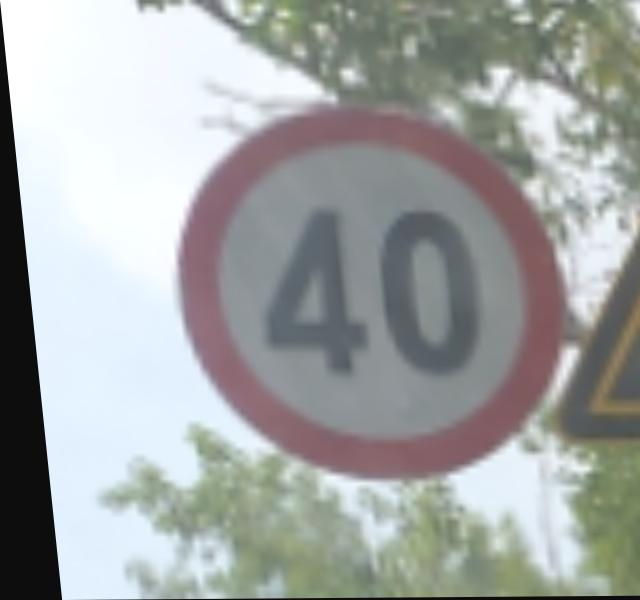limit40: (147, 100, 577, 484)
